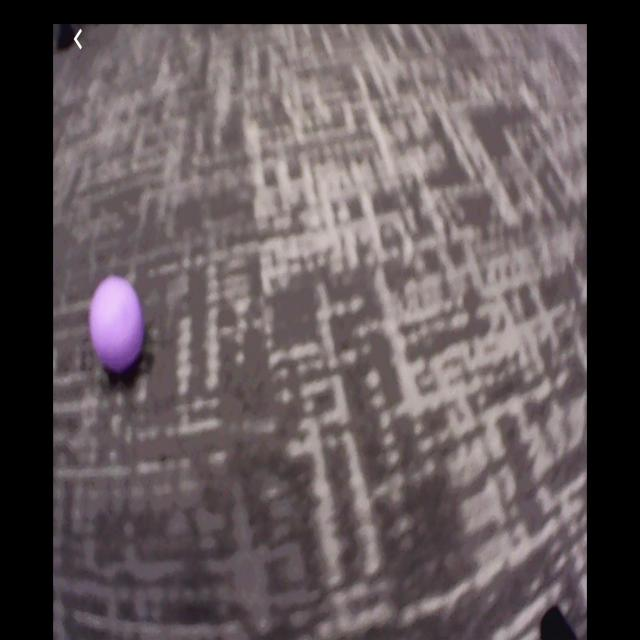ball: (91, 278, 144, 371)
